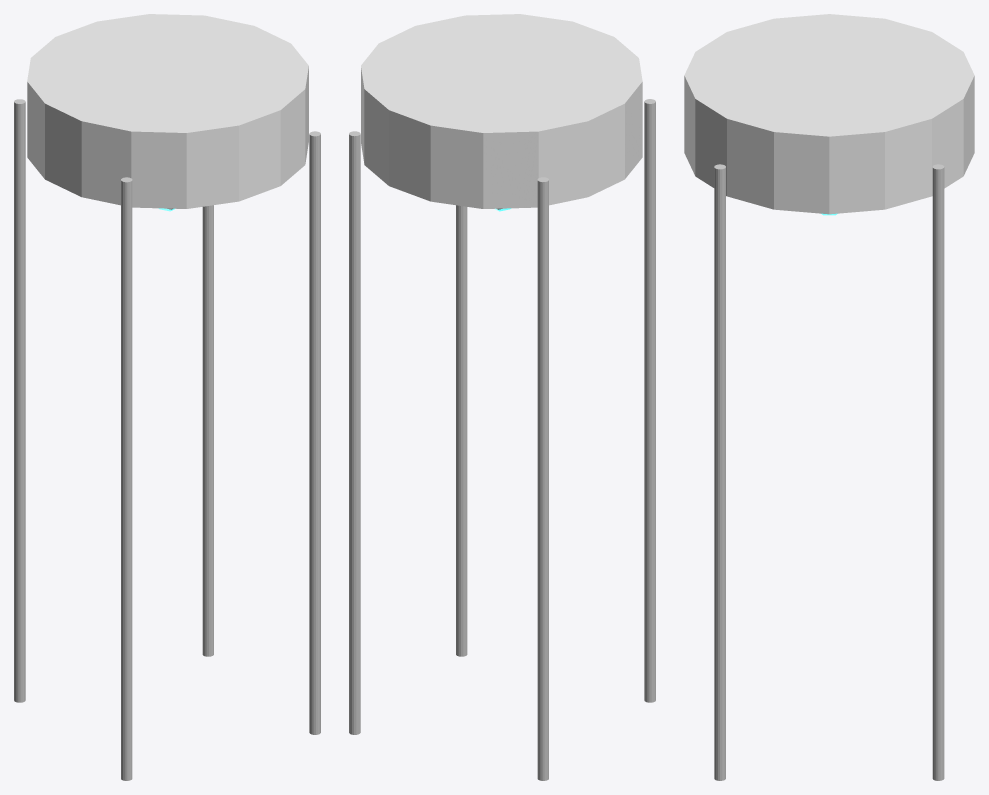
Rendered from Safe Room Check point top part.fbx.
The picture shows the model from 3 angles, left to right: view 1: azimuth 30°, elevation 25°; view 2: azimuth 150°, elevation 25°; view 3: azimuth 270°, elevation 25°; orthographic projection. The views are drawn at different scales.
Parts seen in each view (by area): view 1: Cylinder.004; view 2: Cylinder.004; view 3: Cylinder.004.
Part boxes in pixels (<box>): Cylinder.004: <box>14,14,320,780</box>; Cylinder.004: <box>349,14,655,780</box>; Cylinder.004: <box>684,14,974,780</box>.
Bounding box in the file's own units: 366 × 912 × 366.
